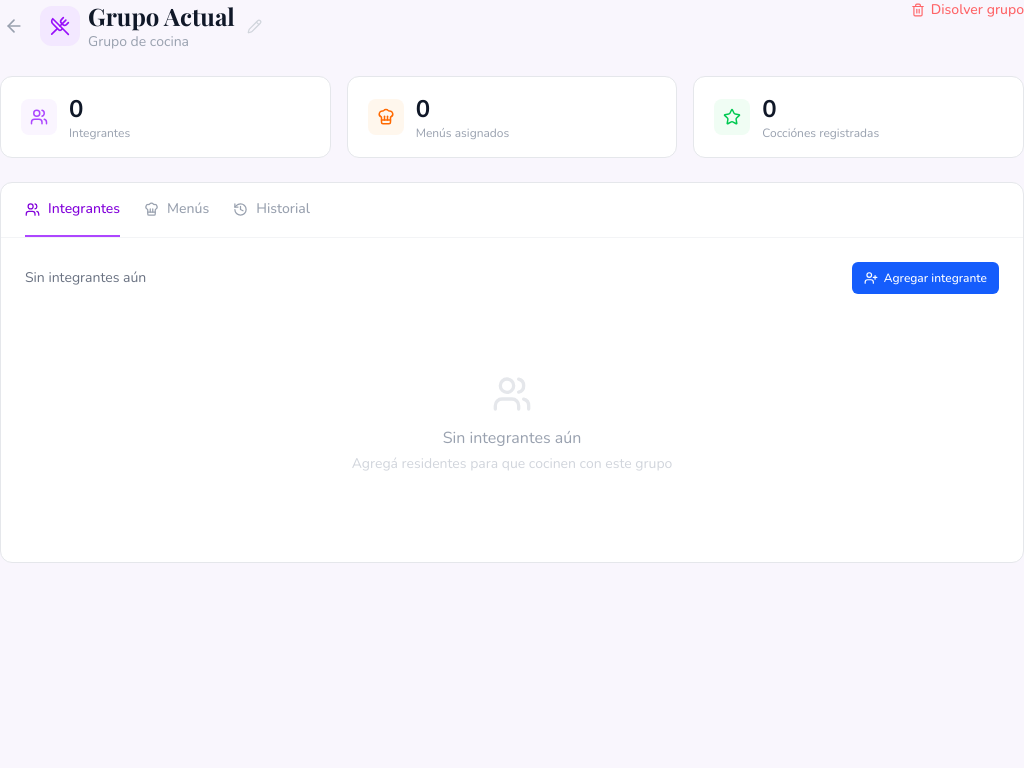
it: GrupoDetailPage — modal "Agregar integrante" › muestra en qué grupo está un residente que ya pertenece a otro y no ofrece agregarlo
The width and height of the screenshot is (1024, 768).
Click the button "Agregar integrante" at (925, 278), box left=852, top=262, right=999, bottom=294
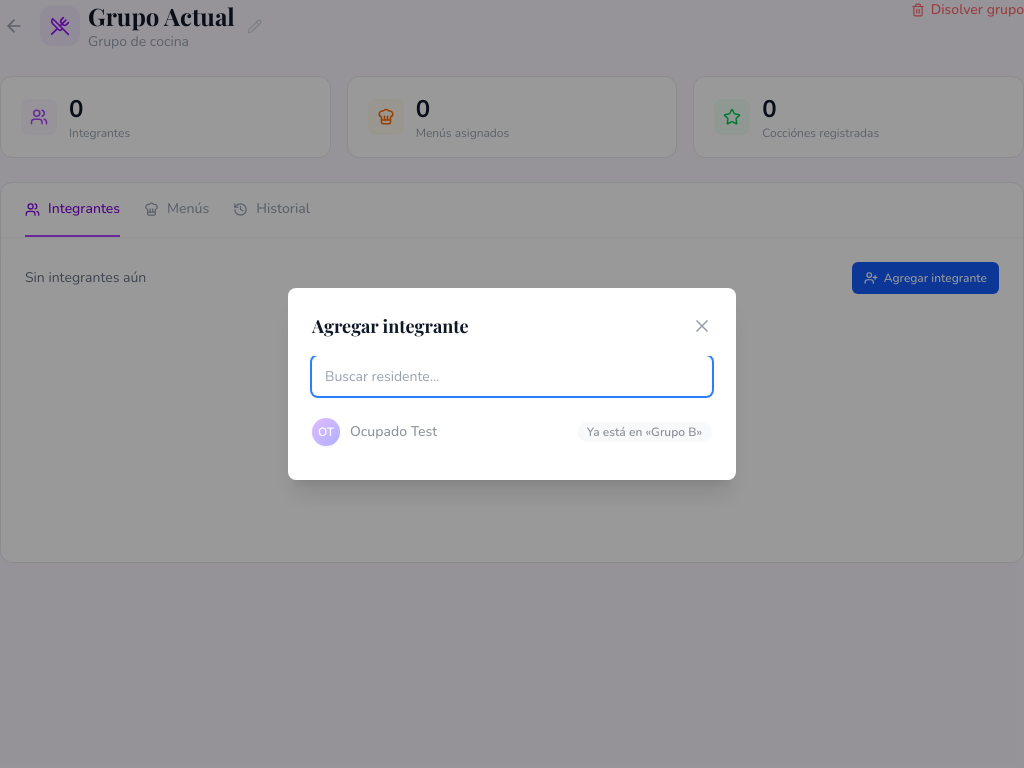
expect the text "Ya está en «Grupo B»" is shown: met, box left=587, top=424, right=702, bottom=440
